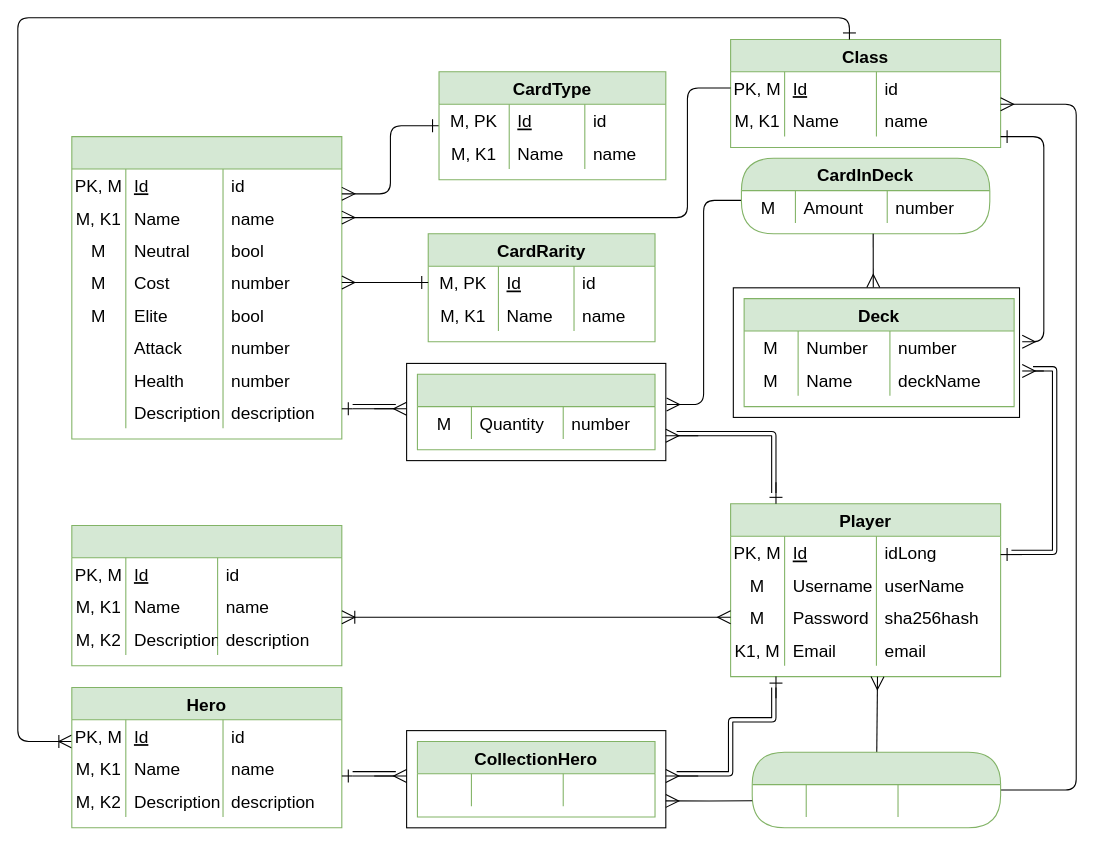
This 1094x846 diagram has some shape labels left out. Each missing label, with the box of its shape:
Card: (71, 136, 342, 439)
CardBack: (71, 524, 342, 666)
CollectionCard: (416, 373, 655, 450)
FavoriteHero: (751, 751, 1001, 828)
